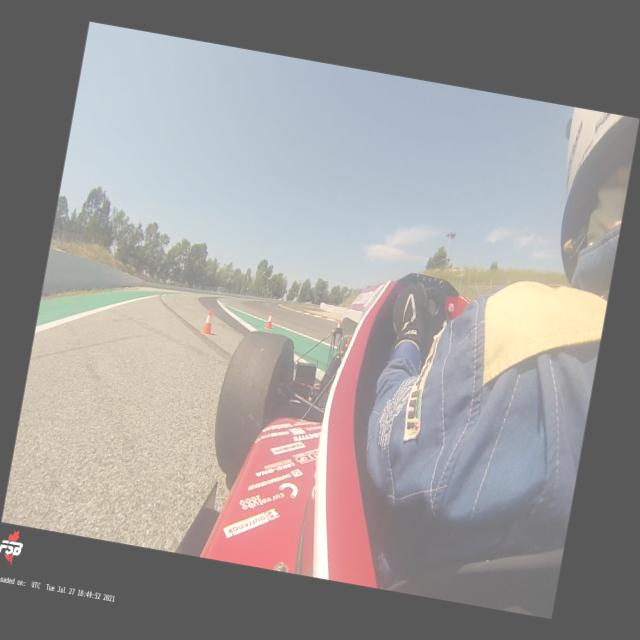orange_cone: (200, 307, 216, 337), (264, 310, 276, 330)
